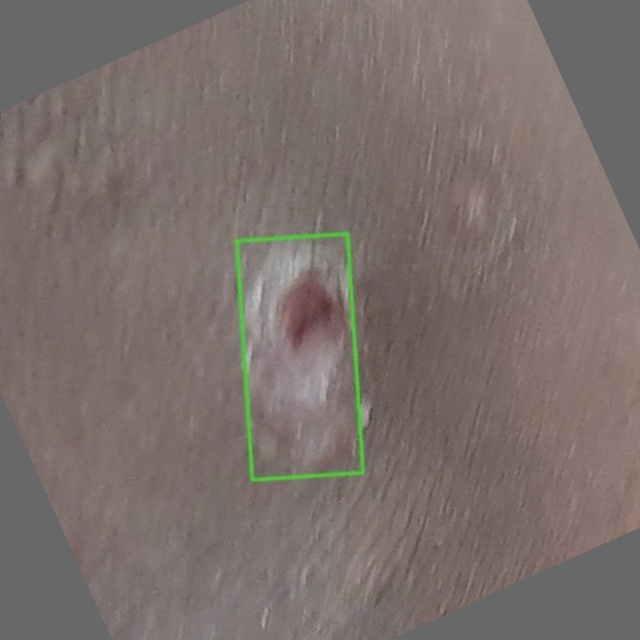Eczema: (236, 234, 362, 480)
